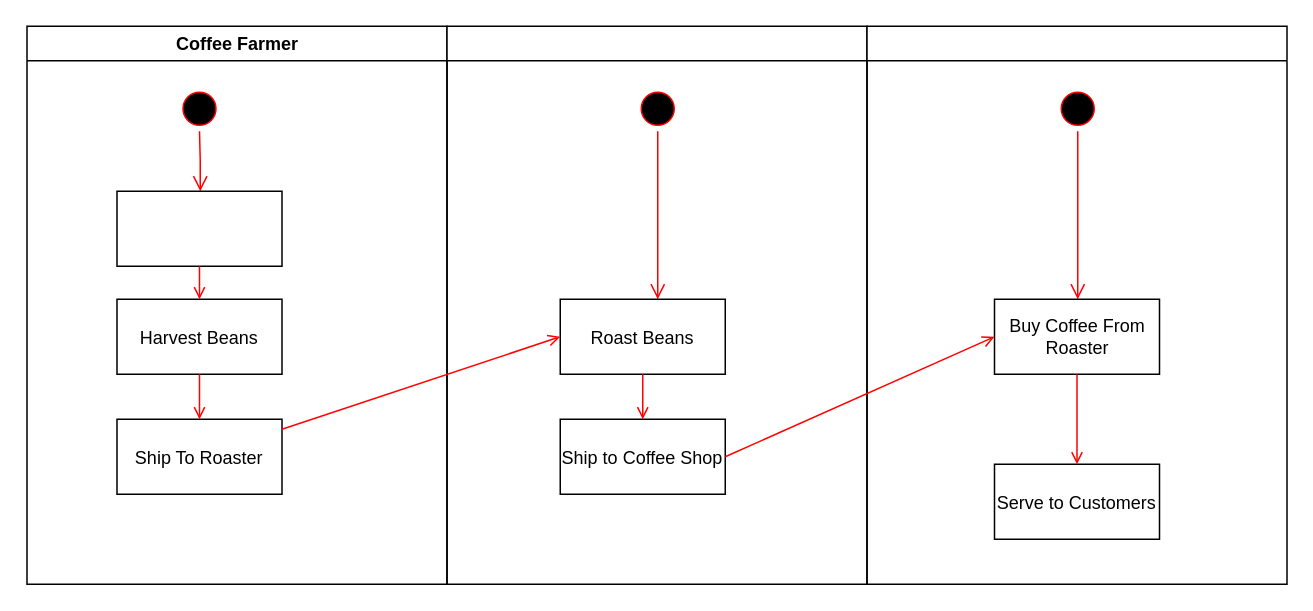
The diagram is 1313 pixels wide and 611 high, and some of its shapes have lost their labels. The shapes that lost their labels are listed below. From the top down, each one's box as (x1, y1, x2, y2) in pixels, then its label:
(116, 190, 282, 266): Grow Coffee Plant
(446, 25, 867, 584): Roaster
(866, 25, 1287, 584): Coffee Shop
